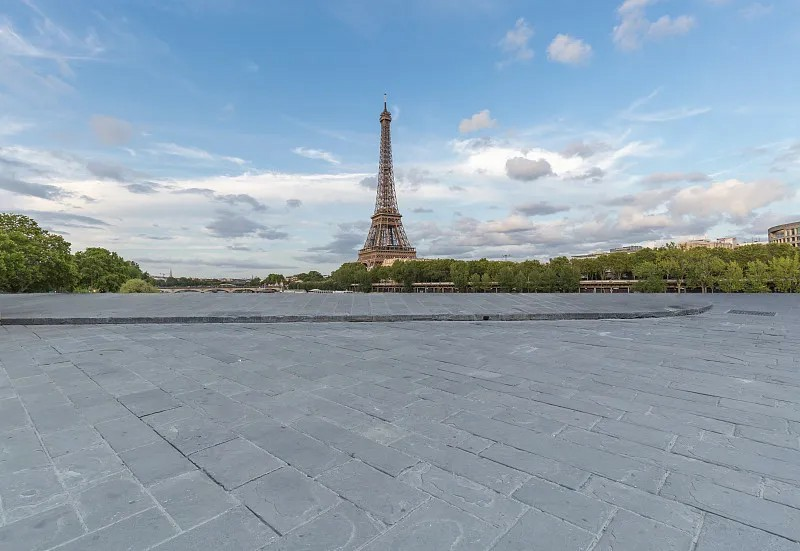Eiffel: (356, 92, 416, 273)
